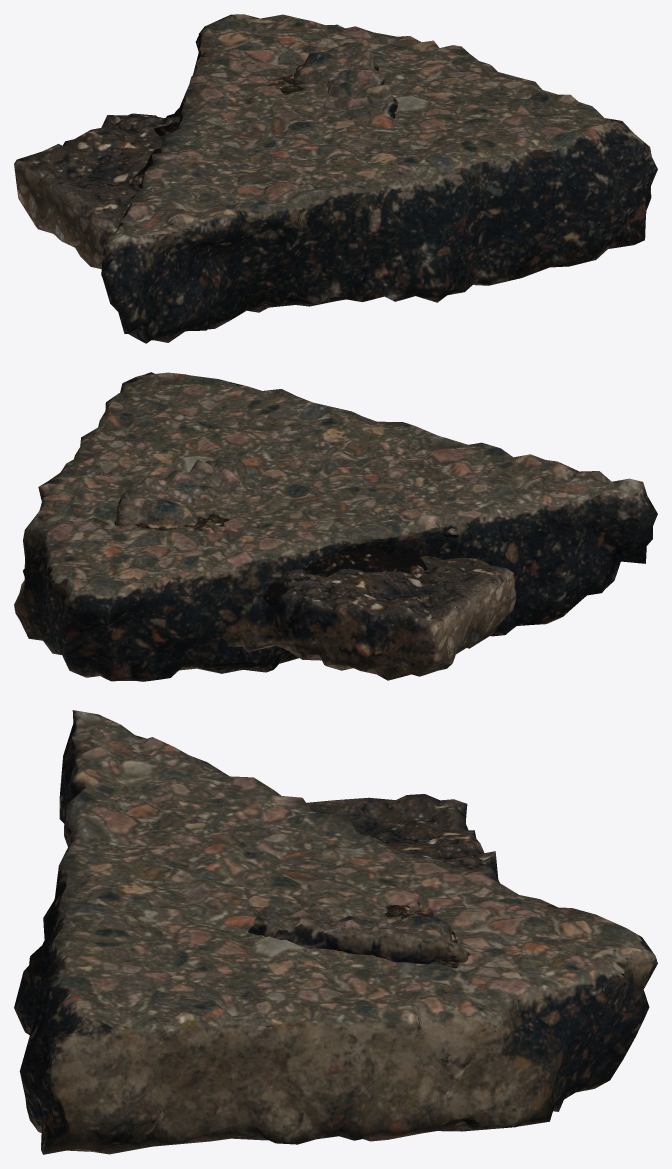
3 renders of one model, top to bottom at view 1: azimuth 30°, elevation 25°; view 2: azimuth 150°, elevation 25°; view 3: azimuth 270°, elevation 25°, orthographic. The views are drawn at different scales.
Parts seen in each view (by area): view 1: tlhjacuva_LOD0_TIER2_002, tlhjacuva_LOD0_TIER2_003, tlhjacuva_LOD0_TIER2_001, tlhjacuva_LOD0_TIER2_000, tlhjacuva_LOD0_TIER2_004; view 2: tlhjacuva_LOD0_TIER2_002, tlhjacuva_LOD0_TIER2_003, tlhjacuva_LOD0_TIER2_001, tlhjacuva_LOD0_TIER2_000, tlhjacuva_LOD0_TIER2_004; view 3: tlhjacuva_LOD0_TIER2_002, tlhjacuva_LOD0_TIER2_001, tlhjacuva_LOD0_TIER2_003, tlhjacuva_LOD0_TIER2_004.
Part boxes in pixels (<box>): tlhjacuva_LOD0_TIER2_002: <box>101,14,657,343</box>; tlhjacuva_LOD0_TIER2_003: <box>14,108,179,269</box>; tlhjacuva_LOD0_TIER2_001: <box>268,42,398,124</box>; tlhjacuva_LOD0_TIER2_000: <box>129,112,179,187</box>; tlhjacuva_LOD0_TIER2_004: <box>249,64,308,101</box>; tlhjacuva_LOD0_TIER2_002: <box>14,372,657,681</box>; tlhjacuva_LOD0_TIER2_003: <box>221,556,516,680</box>; tlhjacuva_LOD0_TIER2_001: <box>116,456,276,532</box>; tlhjacuva_LOD0_TIER2_000: <box>263,548,427,606</box>; tlhjacuva_LOD0_TIER2_004: <box>114,514,460,537</box>; tlhjacuva_LOD0_TIER2_002: <box>14,710,657,1154</box>; tlhjacuva_LOD0_TIER2_001: <box>248,894,470,964</box>; tlhjacuva_LOD0_TIER2_003: <box>306,794,500,883</box>; tlhjacuva_LOD0_TIER2_004: <box>385,883,458,968</box>.
Size of the model in its own units: 0.1639 by 0.0409 by 0.1354.
Materials: 1 (1 with a texture image).
